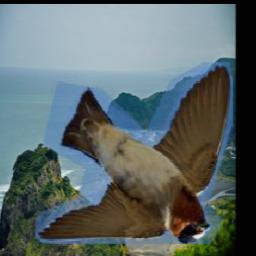Swallow: (35, 62, 233, 244)
